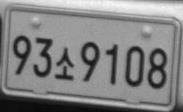0: (124, 45, 145, 87)
1: (102, 43, 123, 85)
3: (32, 37, 52, 77)
8: (145, 47, 168, 89)
9: (79, 41, 101, 81), (12, 34, 31, 75)
소: (54, 46, 74, 80)
